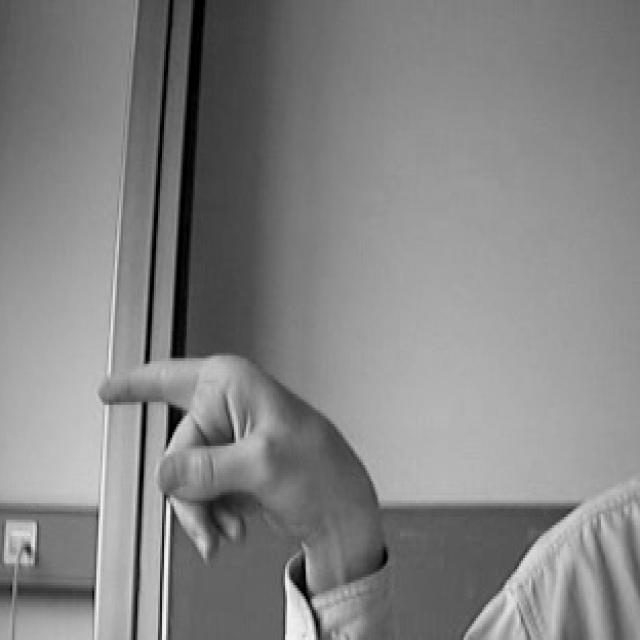P: (88, 340, 390, 566)
